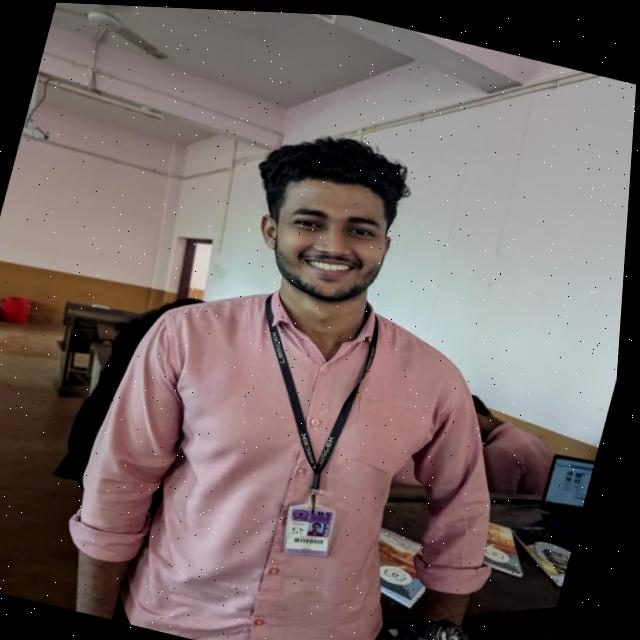id_card: (210, 279, 407, 565)
